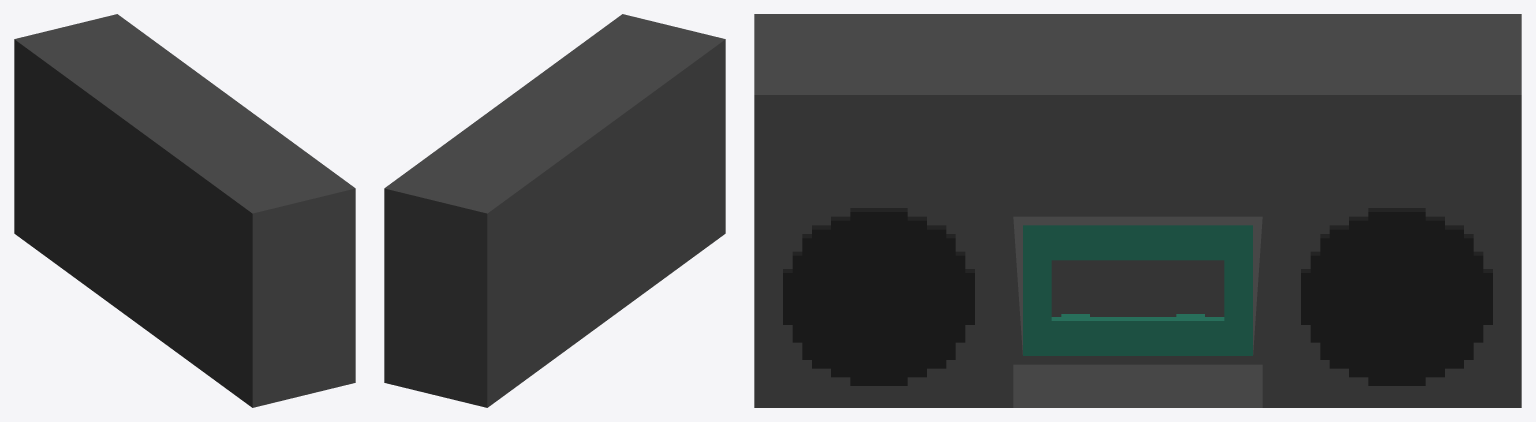
The model's file is Radio00.gltf.
3 views of the same model, side by side, from view 1: azimuth 30°, elevation 25°; view 2: azimuth 150°, elevation 25°; view 3: azimuth 270°, elevation 25° (orthographic). The views are drawn at different scales.
Parts seen in each view (by area): view 1: base; view 2: base; view 3: base, left speaker, right speaker, door.
Boxes of the visible parts, left/top/right/bottom form: base: left=14, top=14, right=355, bottom=407; base: left=384, top=14, right=725, bottom=407; base: left=754, top=14, right=1521, bottom=407; left speaker: left=783, top=208, right=974, bottom=385; right speaker: left=1301, top=208, right=1492, bottom=385; door: left=1023, top=225, right=1252, bottom=355.
Bounding box in the file's own units: 21 × 36 × 80.
